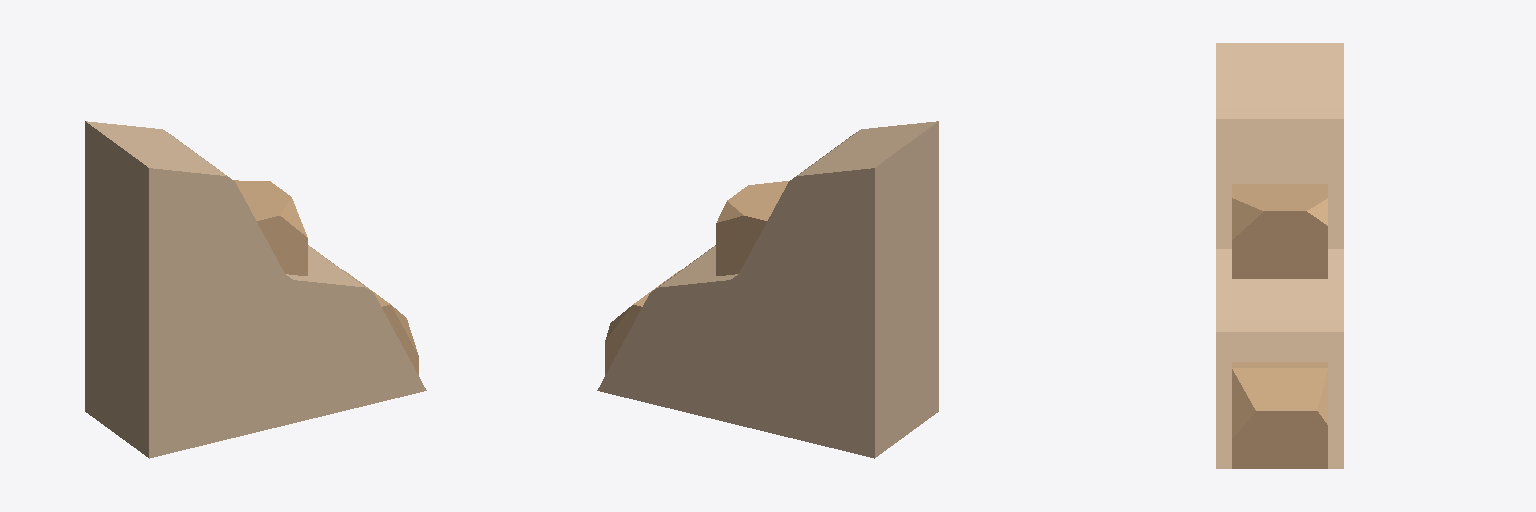
The model's file is Wall_Ruined_Corner_Outer_2.obj.
The picture shows the model from 3 angles: view 1: azimuth 30°, elevation 25°; view 2: azimuth 150°, elevation 25°; view 3: azimuth 270°, elevation 25°; orthographic projection.
Parts seen in each view (by area): view 1: object2, object3, object1; view 2: object2, object3, object1; view 3: object2, object1, object3.
Boxes of the visible parts, x1=… form: object2: x1=85, y1=121, x2=426, y2=458; object3: x1=234, y1=180, x2=307, y2=275; object1: x1=343, y1=270, x2=418, y2=374; object2: x1=597, y1=121, x2=938, y2=458; object3: x1=716, y1=181, x2=788, y2=275; object1: x1=605, y1=270, x2=680, y2=374; object2: x1=1216, y1=43, x2=1343, y2=468; object1: x1=1232, y1=362, x2=1327, y2=468; object3: x1=1232, y1=184, x2=1327, y2=278.
Bounding box in the file's own units: 0.5 × 0.5 × 0.2.